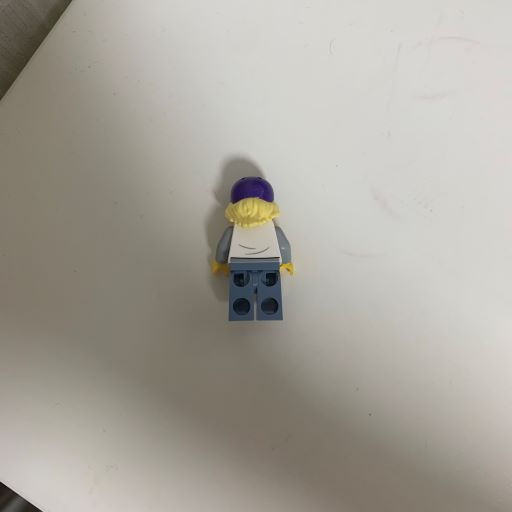human: (208, 168, 302, 332)
